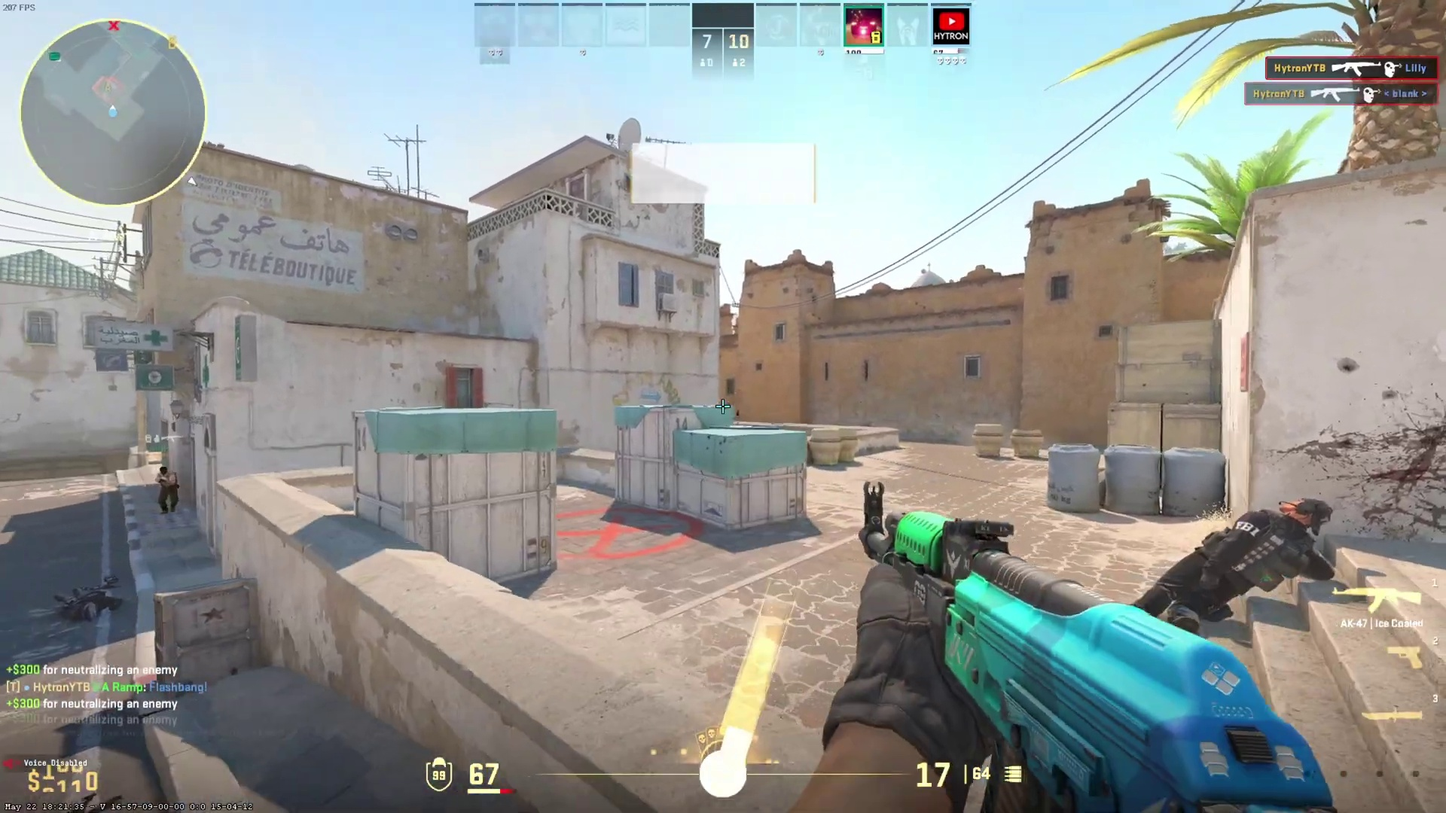Terrorist: (156, 463, 180, 514)
